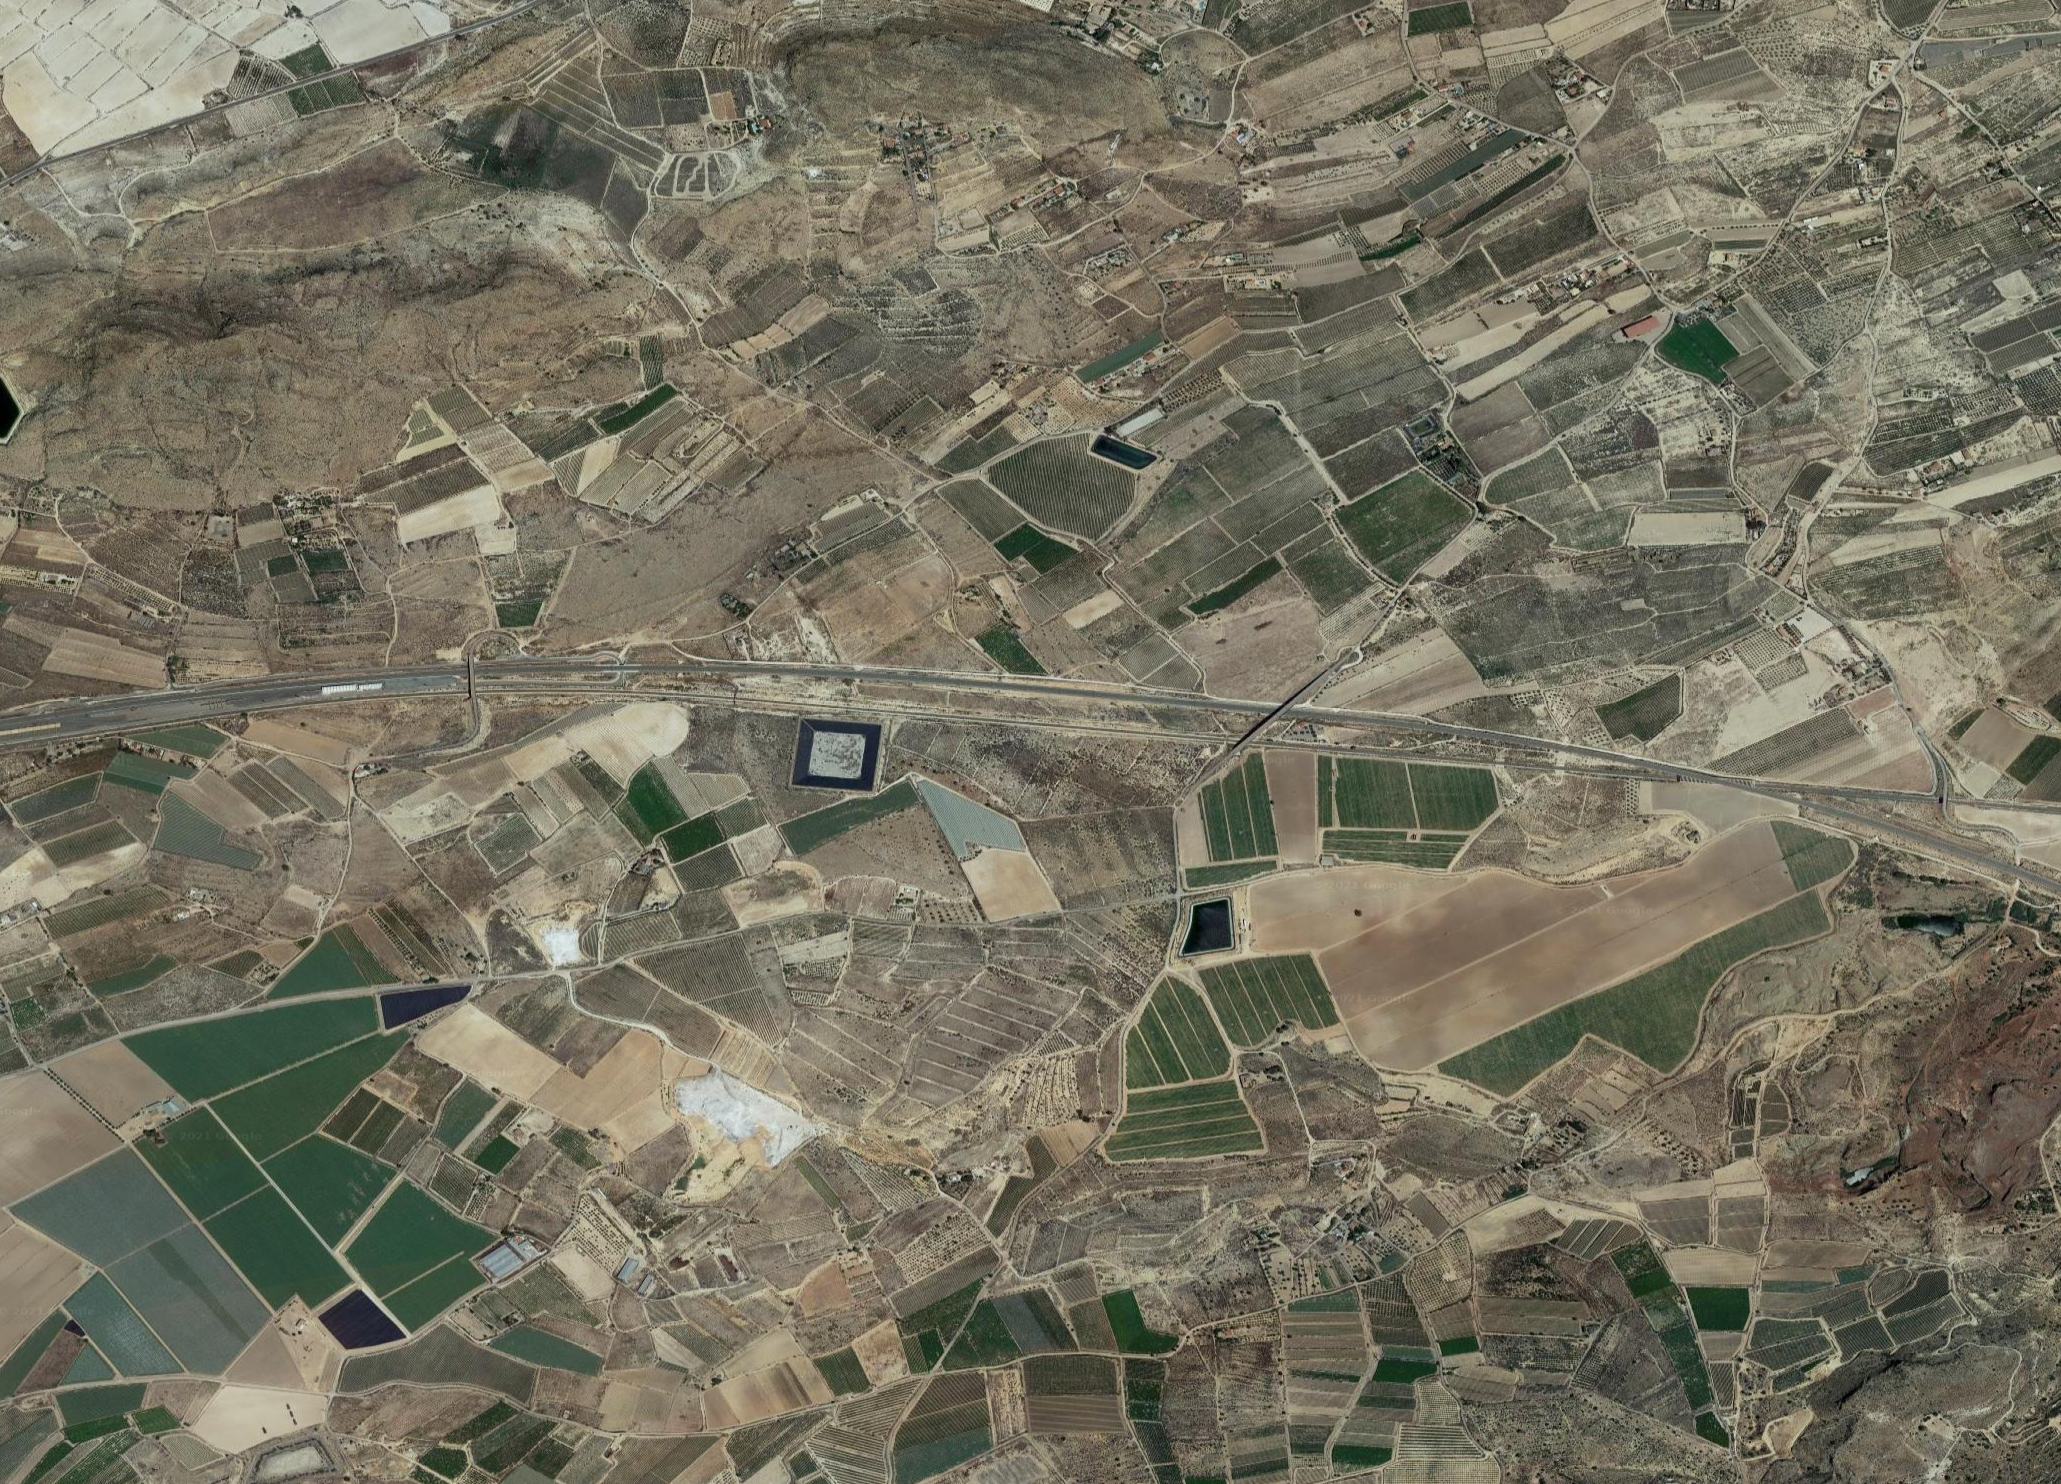bridge: (1250, 700, 1288, 740), (462, 648, 478, 696)
motorway: (1360, 704, 1687, 786), (675, 645, 1018, 722), (1016, 674, 1357, 751), (318, 640, 670, 712), (2, 668, 317, 748), (1687, 759, 1928, 831), (1914, 781, 2061, 893)
